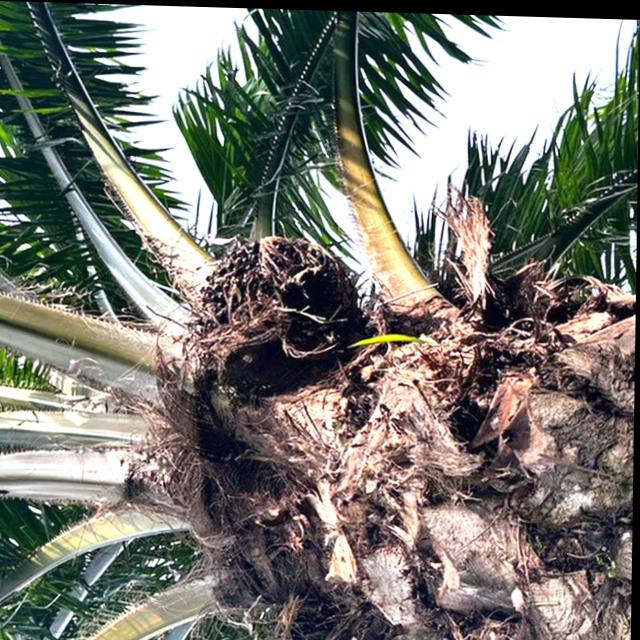unripe: (179, 224, 373, 418)
